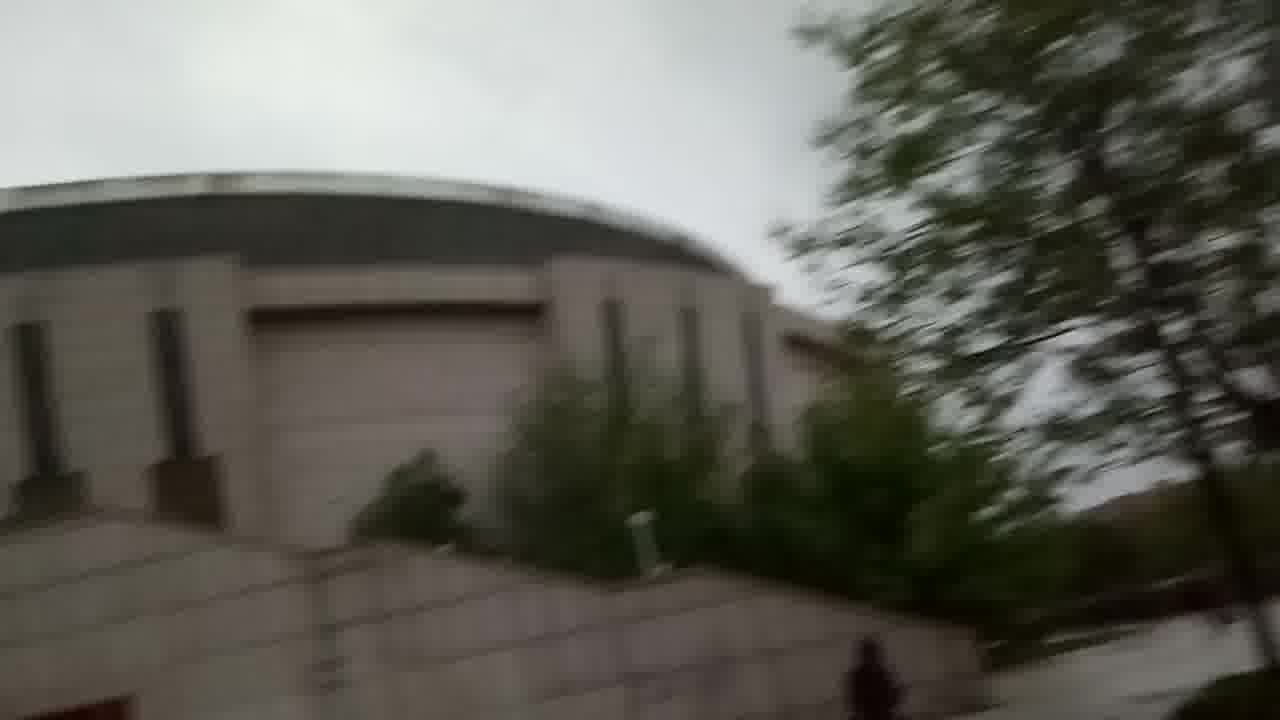zhongtiww: (5, 168, 985, 720)
